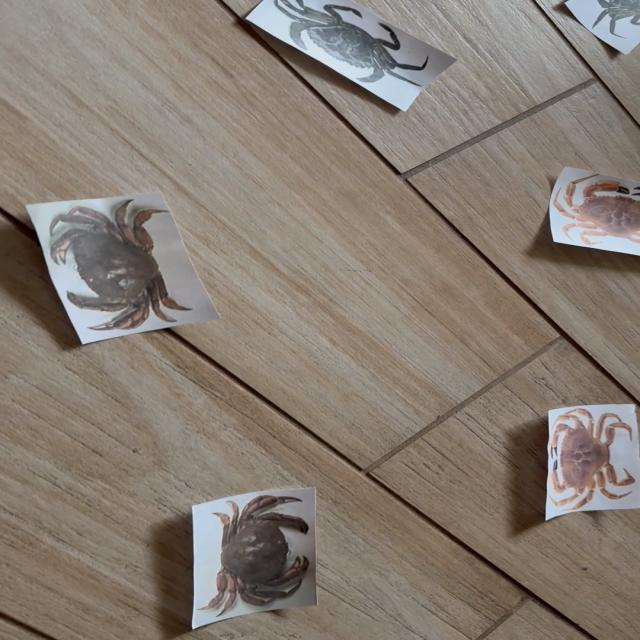egc: (247, 0, 455, 111)
